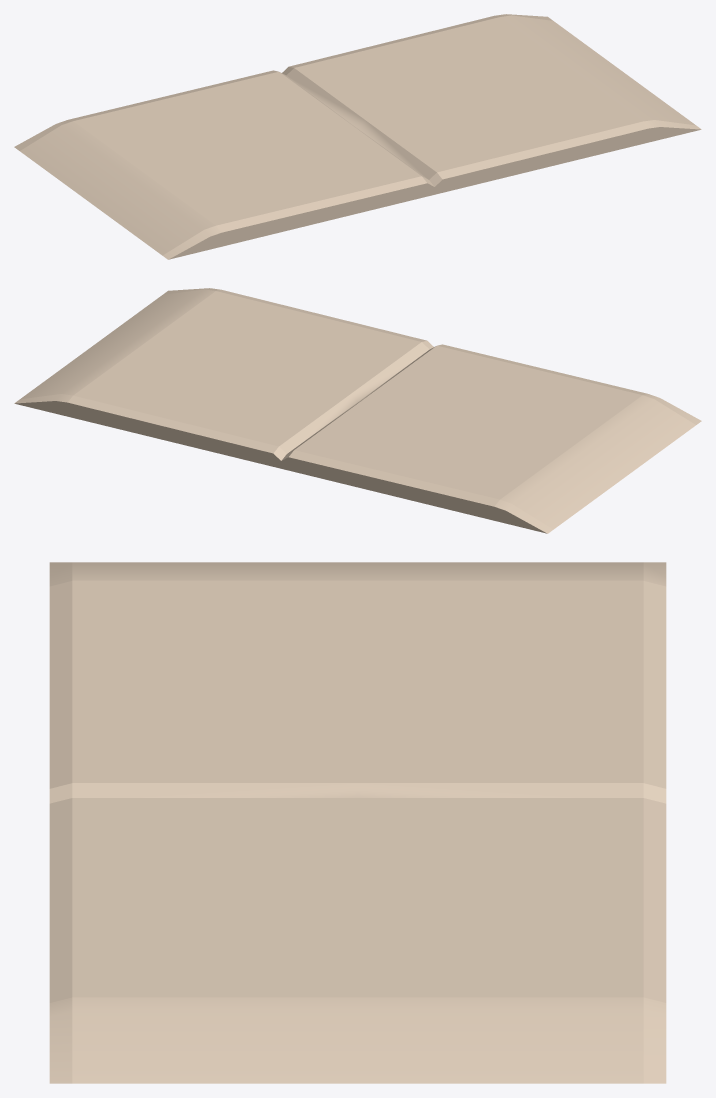
The model's file is Module_Ss_roof_2XC.FBX.
3 views of the same model, one above another, from view 1: azimuth 30°, elevation 25°; view 2: azimuth 150°, elevation 25°; view 3: azimuth 270°, elevation 25° (orthographic). The views are drawn at different scales.
Visible parts, largest first — view 1: Module_Ss_roof_2XC; view 2: Module_Ss_roof_2XC; view 3: Module_Ss_roof_2XC.
Boxes of the visible parts, x1=… form: Module_Ss_roof_2XC: x1=14, y1=14, x2=701, y2=259; Module_Ss_roof_2XC: x1=14, y1=288, x2=701, y2=533; Module_Ss_roof_2XC: x1=49, y1=562, x2=666, y2=1083.
Size of the model in its own units: 78.74 by 2.39 by 39.37.
